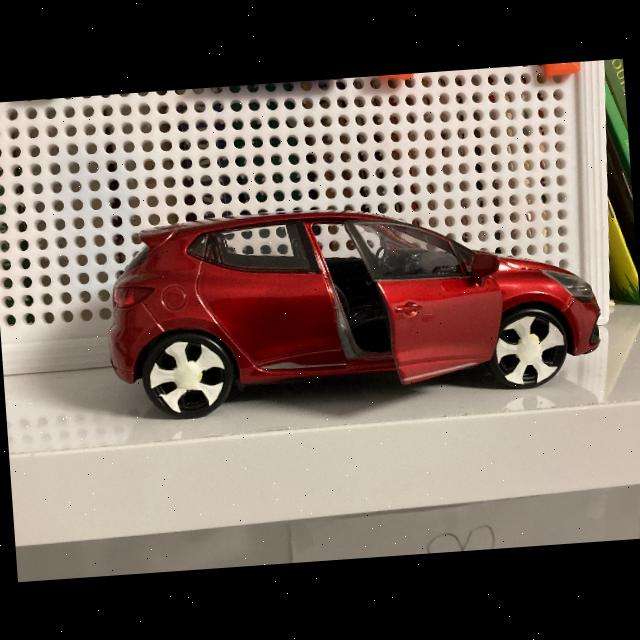Yanlis_Jant: (147, 336, 228, 416), (492, 311, 568, 388)
